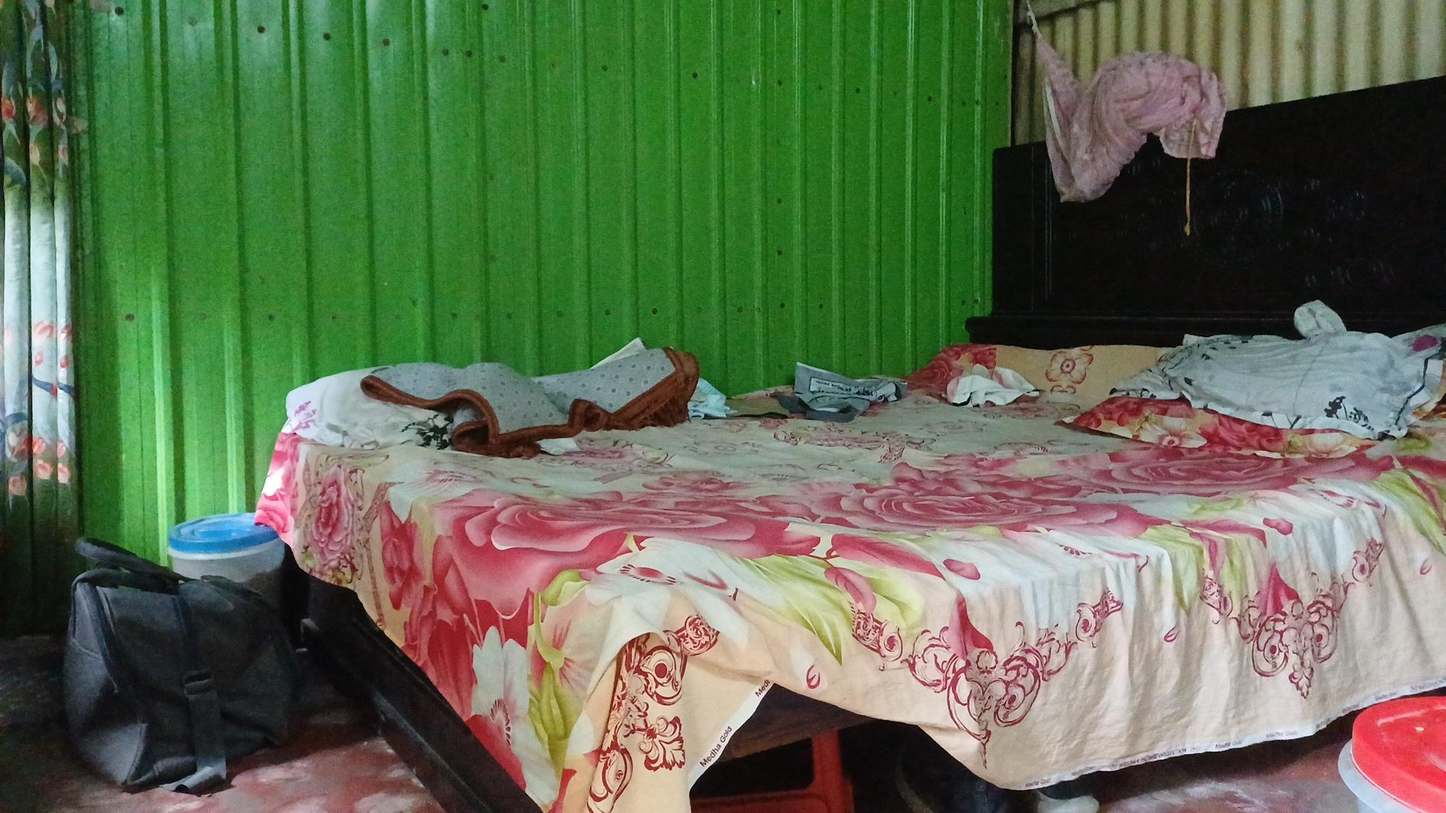Bag: (70, 541, 380, 768)
Pillow: (1100, 296, 1423, 491)
